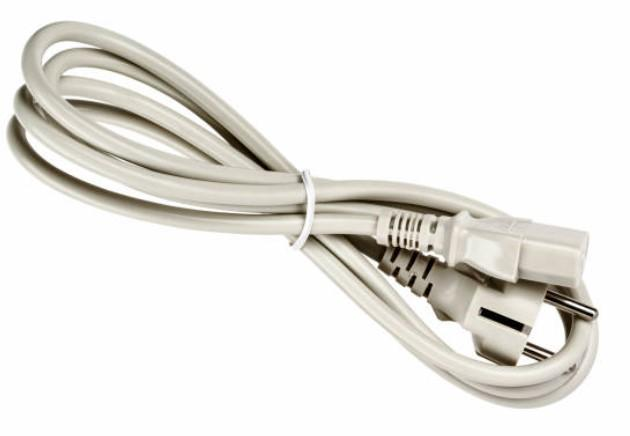cable: (7, 21, 599, 406)
